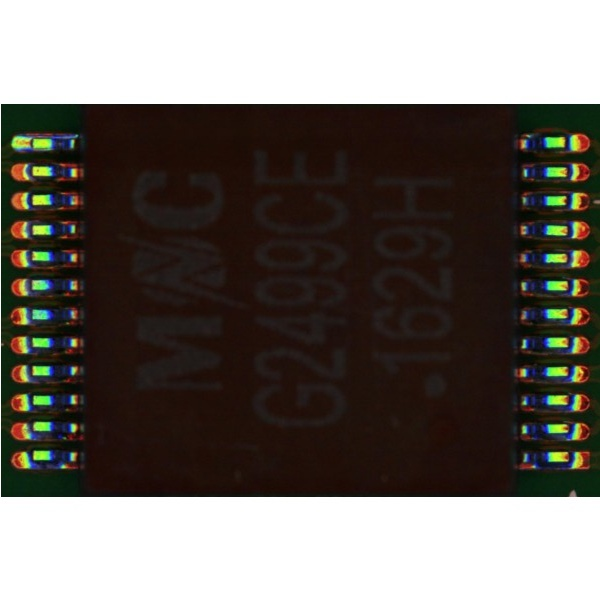Bad_podu: (19, 139, 38, 147)
Bad_qiaojiao: (31, 134, 77, 139)
